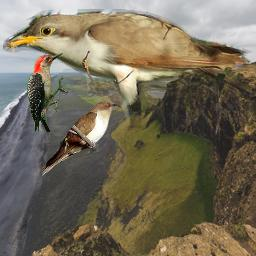Cuckoo: (3, 9, 252, 128), (42, 100, 121, 176)
Woodpecker: (27, 53, 69, 132)
